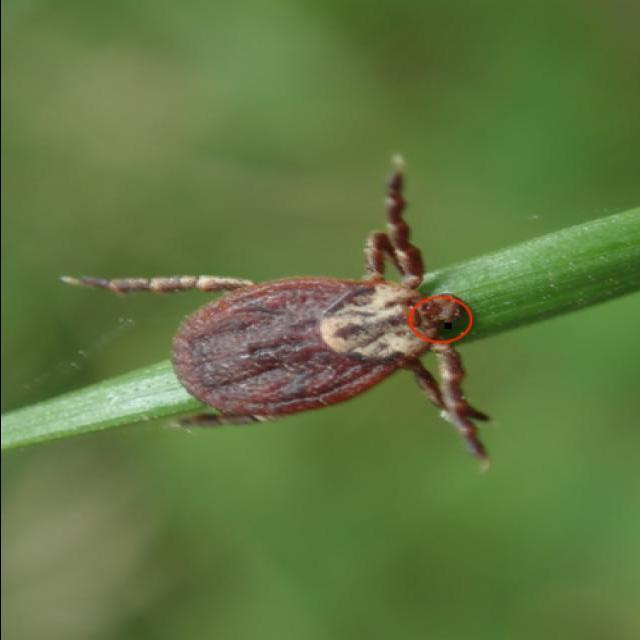Dermacentor Reticulatus-F: (61, 173, 485, 458)
